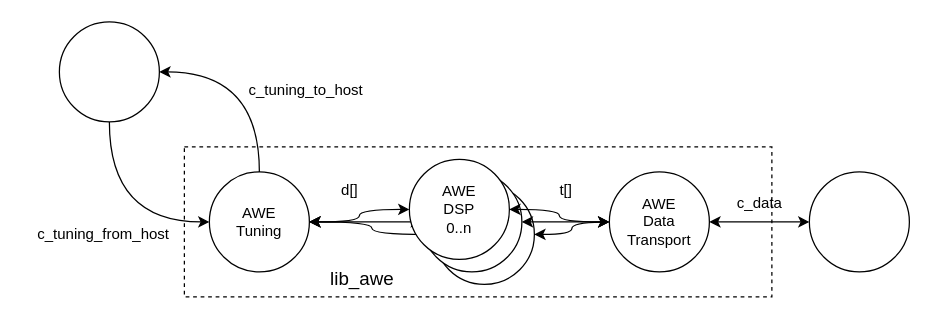
Image size: 931x319. Some labels were removed from this diagram. Each missing label, with the centre of its shape:
Application audio: the point at 858,221
Application Control: the point at 108,71
